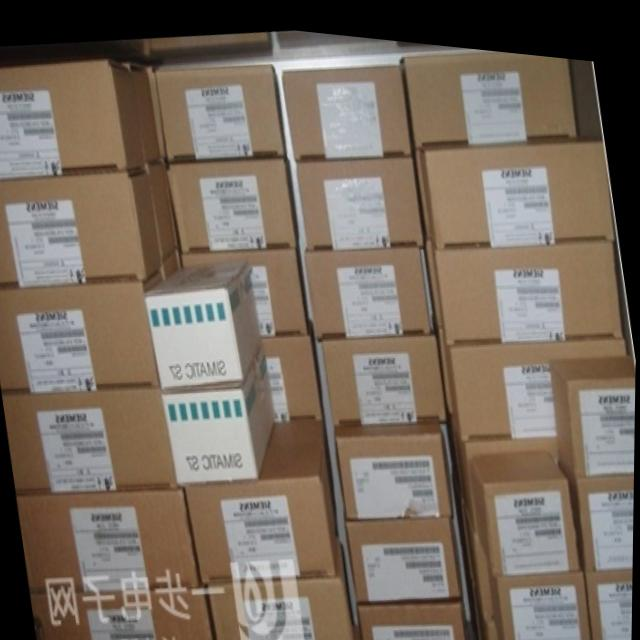box: (185, 413, 338, 580), (419, 123, 616, 239), (432, 228, 624, 335), (17, 484, 203, 593), (2, 380, 179, 493), (0, 268, 162, 389), (445, 326, 628, 431), (0, 163, 161, 282), (399, 40, 579, 140), (0, 57, 145, 173), (208, 531, 359, 640), (162, 341, 276, 483), (146, 254, 263, 387), (470, 438, 582, 565), (154, 60, 288, 159), (167, 150, 300, 249), (283, 56, 412, 155), (305, 235, 432, 333), (296, 149, 425, 244), (324, 321, 449, 418), (337, 412, 455, 512), (182, 240, 310, 329), (32, 582, 218, 640), (456, 419, 560, 522), (551, 343, 637, 466), (345, 510, 465, 596), (490, 556, 596, 640), (559, 445, 635, 559), (262, 313, 324, 414), (359, 589, 472, 640), (122, 59, 161, 161), (587, 557, 634, 640), (466, 493, 494, 610), (146, 159, 176, 260), (145, 63, 167, 155), (425, 230, 443, 317), (481, 597, 501, 640)
